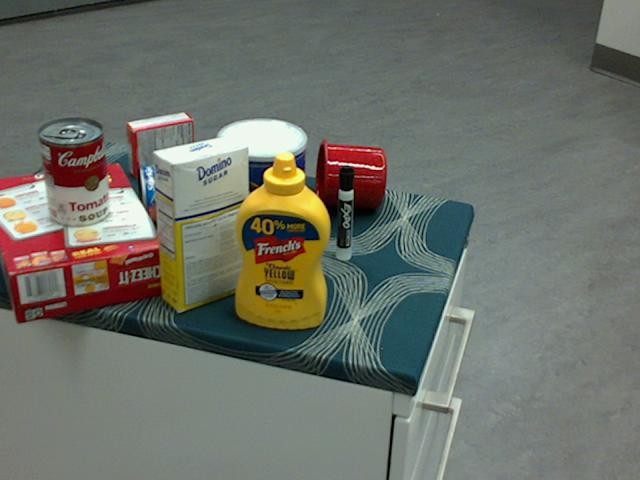cracker_box: (0, 161, 169, 322)
gelatin_box: (125, 112, 193, 178)
large_marker: (337, 164, 354, 260)
master_chef_can: (215, 117, 304, 261)
mug: (314, 138, 385, 210)
mustard_bottle: (235, 150, 331, 329)
potted_meat_can: (192, 128, 273, 215)
sugar_box: (152, 135, 249, 311)
tomato_soup_can: (38, 117, 109, 227)
tuna_fish_can: (135, 164, 170, 235)
